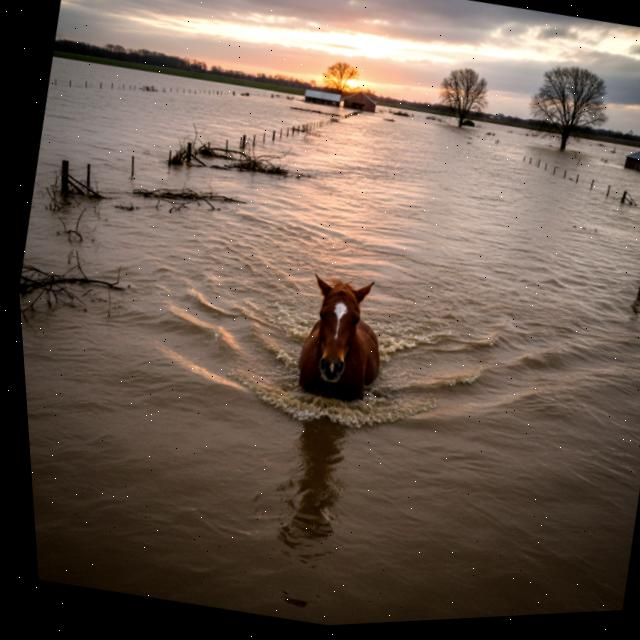horse: (266, 250, 417, 427)
